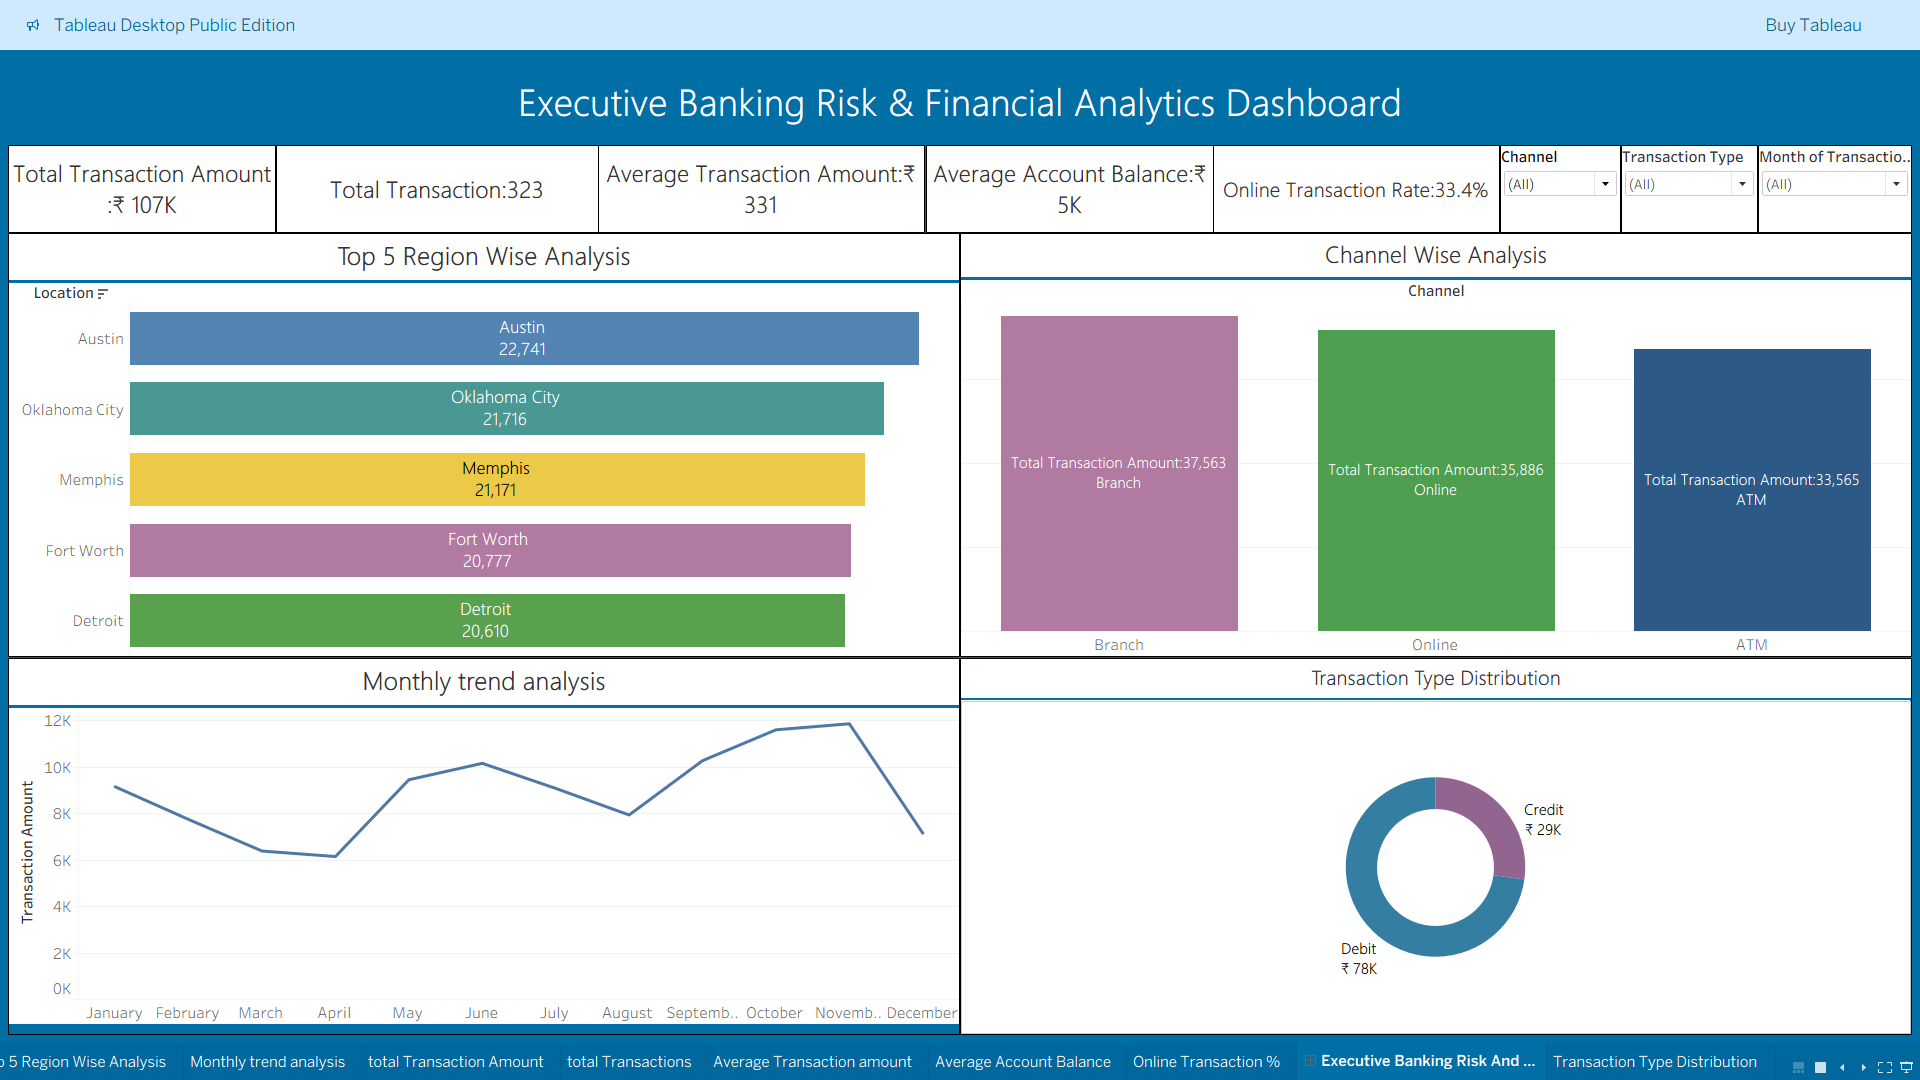

What the dashboard file says about the page in this screenshot:
{"tool":"tableau","page":{"name":"Executive Banking Risk And Financial Analytics Dashboard","canvas":[1000,1000],"units":"permille","ordinal":0},"visuals":[{"type":"text","box":[4.8,10,990.3,87.7]},{"type":"worksheet","title":"total Transaction Amount","mark":"Automatic","box":[4.8,97.7,139.3,88.1]},{"type":"worksheet","title":"total Transactions","mark":"Automatic","box":[144.1,97.7,167.7,88.1]},{"type":"worksheet","title":"Average Transaction amount","mark":"Automatic","box":[311.9,97.7,170.2,88.1]},{"type":"worksheet","title":"Average Account Balance","mark":"Automatic","box":[482.1,97.7,149.7,88.1]},{"type":"worksheet","title":"Online Transaction %","mark":"Automatic","box":[631.8,97.7,149.1,88.1]},{"type":"filter","title":"Channel Wise Analysis","param":"[federated.0oqalok1ewo2jf1eag8g40cq3lm5].[none:Channel:nk]","box":[780.8,97.7,62.8,88.1]},{"type":"filter","title":"Transaction Type Distribution","param":"[federated.0oqalok1ewo2jf1eag8g40cq3lm5].[none:TransactionType:nk]","box":[843.6,97.7,71.2,88.1]},{"type":"filter","title":"Monthly trend analysis","param":"[federated.0oqalok1ewo2jf1eag8g40cq3lm5].[mn:TransactionDate:ok]","box":[914.9,97.7,80.3,88.1]},{"type":"worksheet","title":"Top 5 Region Wise Analysis","mark":"Bar","rows":["Location"],"cols":["TransactionAmount"],"box":[4.8,185.8,495.3,425.7]},{"type":"worksheet","title":"Channel Wise Analysis","mark":"Automatic","rows":["TransactionAmount"],"cols":["Channel"],"box":[500.1,185.8,495.1,425.7]},{"type":"worksheet","title":"Monthly trend analysis","mark":"Line","rows":["TransactionAmount"],"cols":["TransactionDate"],"box":[4.8,611.5,495,378.5]},{"type":"worksheet","title":"Transaction Type Distribution","mark":"Automatic","rows":["Calculation_1214564530970865666","Calculation_1214564530970865666"],"box":[499.8,611.5,495.4,378.5]}]}

Visuals, with their boxes on the dashboard's canvas, which has no fixed pixel size, in thousandths of its width and height (x1, y1, x2, y2). These are canvas units, not pixel positions in the 1920x1080 screenshot, which may show the page scaled, cropped or inside an application window:
text: l=5, t=10, r=995, b=98
"total Transaction Amount" worksheet: l=5, t=98, r=144, b=186
"total Transactions" worksheet: l=144, t=98, r=312, b=186
"Average Transaction amount" worksheet: l=312, t=98, r=482, b=186
"Average Account Balance" worksheet: l=482, t=98, r=632, b=186
"Online Transaction %" worksheet: l=632, t=98, r=781, b=186
"Channel Wise Analysis" filter: l=781, t=98, r=844, b=186
"Transaction Type Distribution" filter: l=844, t=98, r=915, b=186
"Monthly trend analysis" filter: l=915, t=98, r=995, b=186
"Top 5 Region Wise Analysis" worksheet (Bar marks): l=5, t=186, r=500, b=612
"Channel Wise Analysis" worksheet: l=500, t=186, r=995, b=612
"Monthly trend analysis" worksheet (Line marks): l=5, t=612, r=500, b=990
"Transaction Type Distribution" worksheet: l=500, t=612, r=995, b=990
